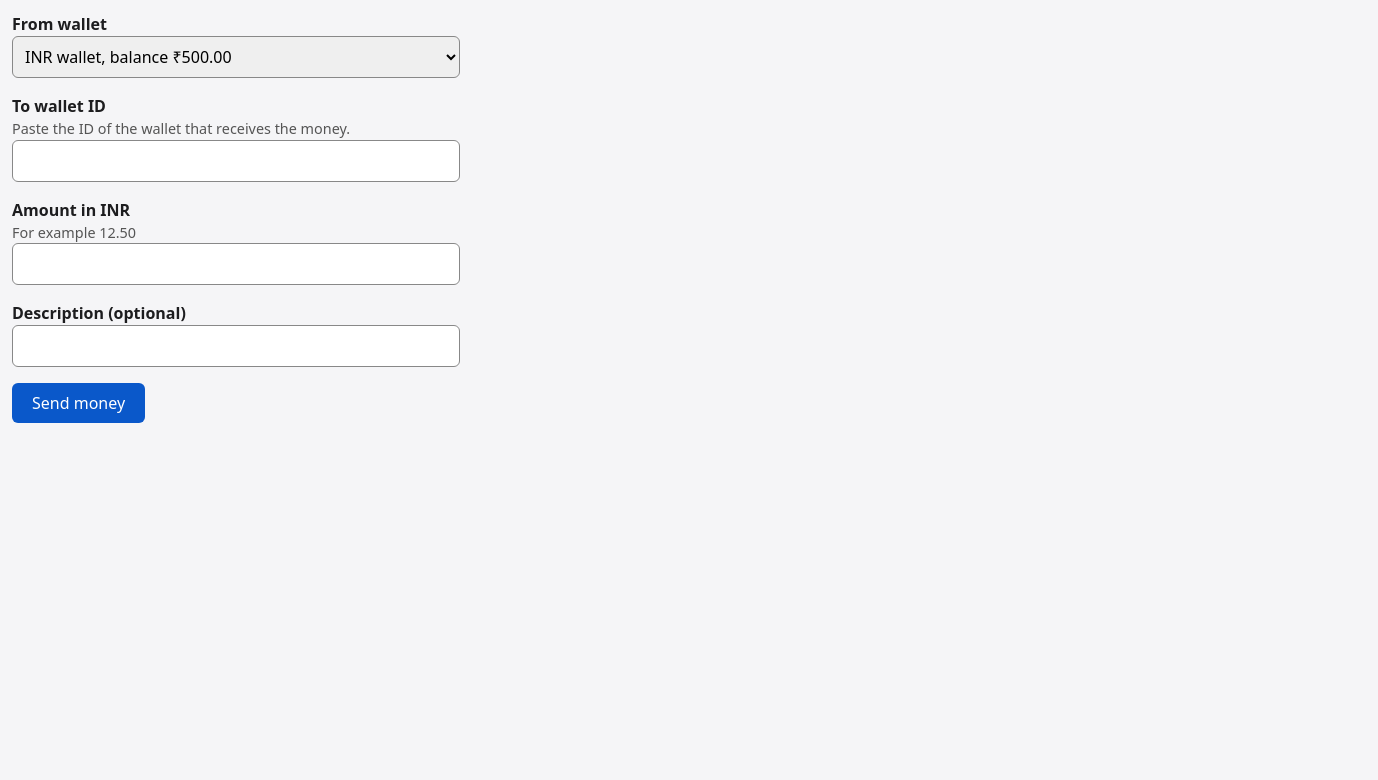
it: TransferForm › shows insufficient funds from the API next to the amount
Type "22222222-2222-4222-8222-222222222222" into the field labelled "To wallet ID" at (236,161), box [12,140,460,182]
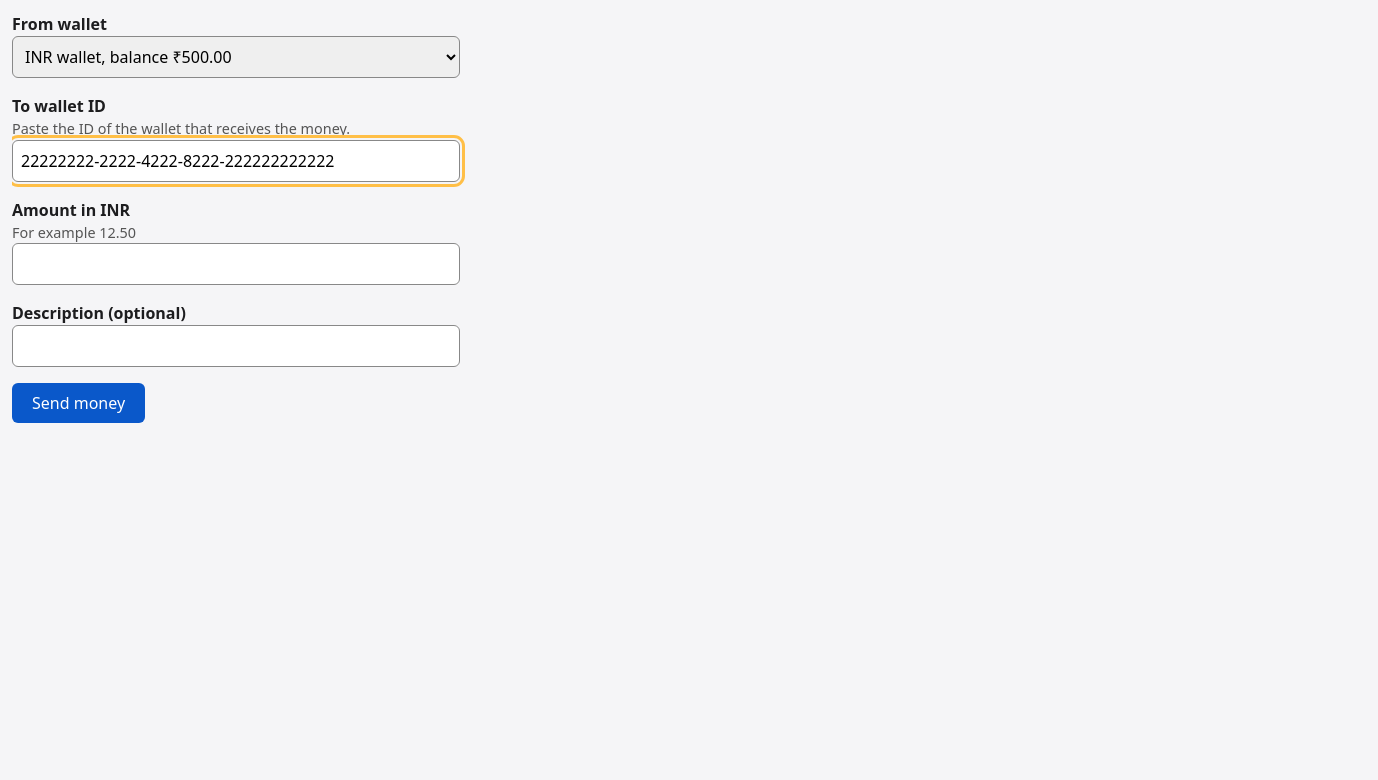
Type "1000" into the field labelled "Amount in INR" at (236,264), box [12,243,460,285]
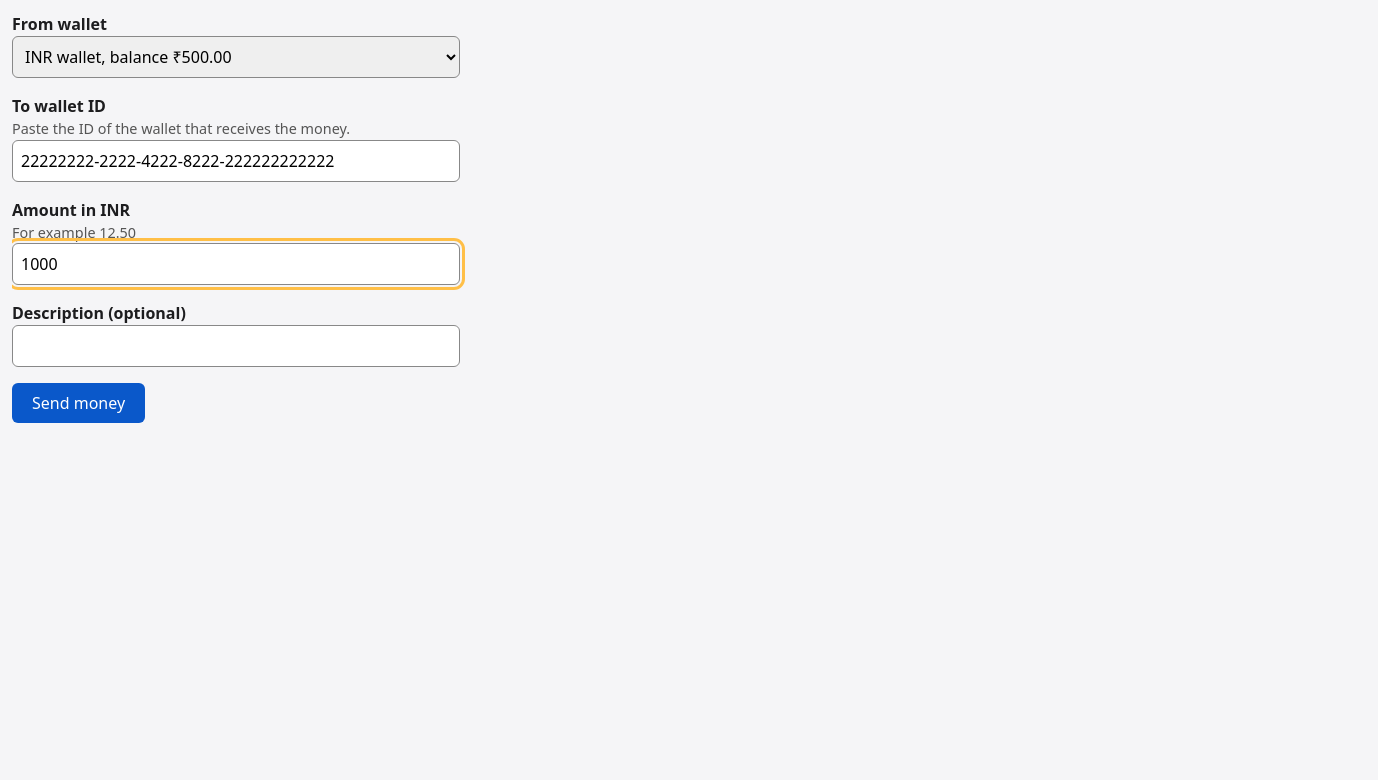
Click the button "Send money" at (79,403), box [12,383,145,423]
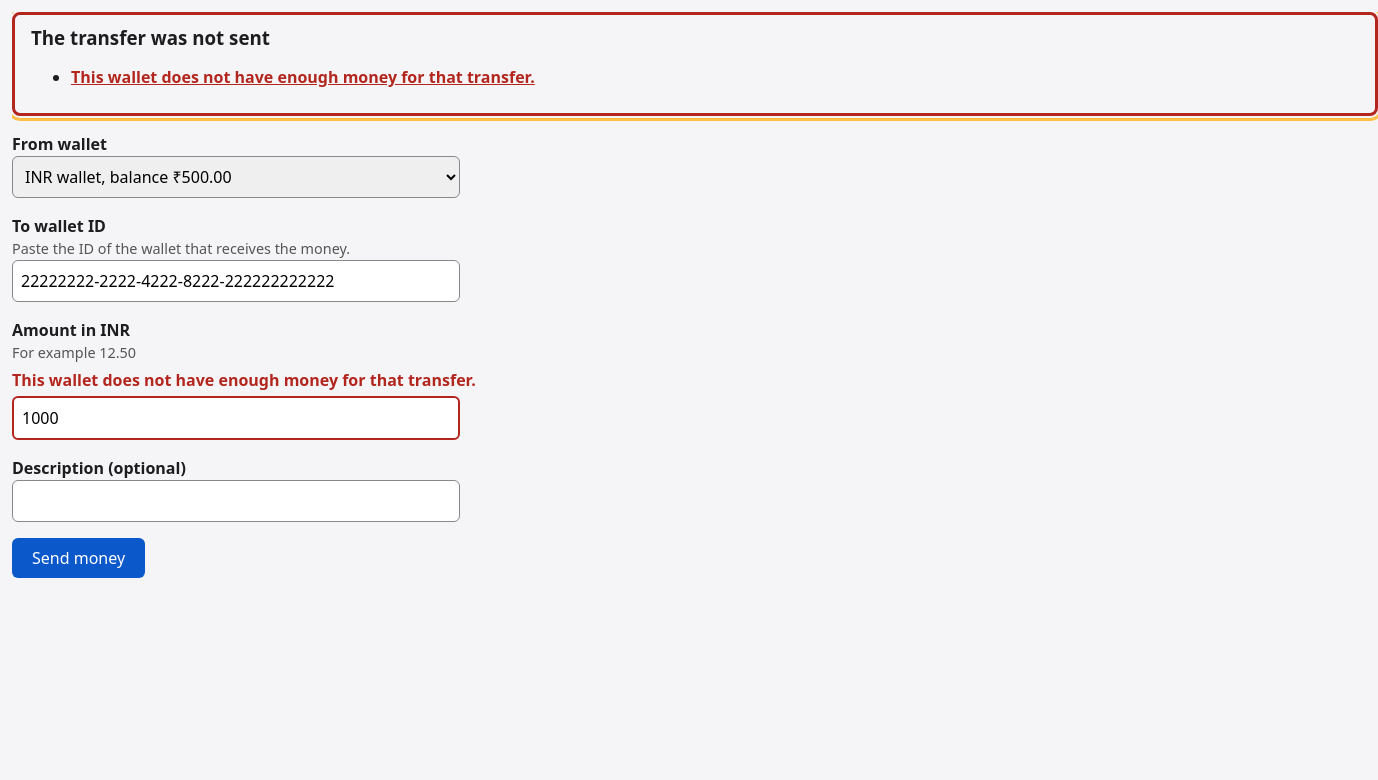
Now the message shows "This wallet does not have enough money for that transfer.", box [71,66,535,88]
